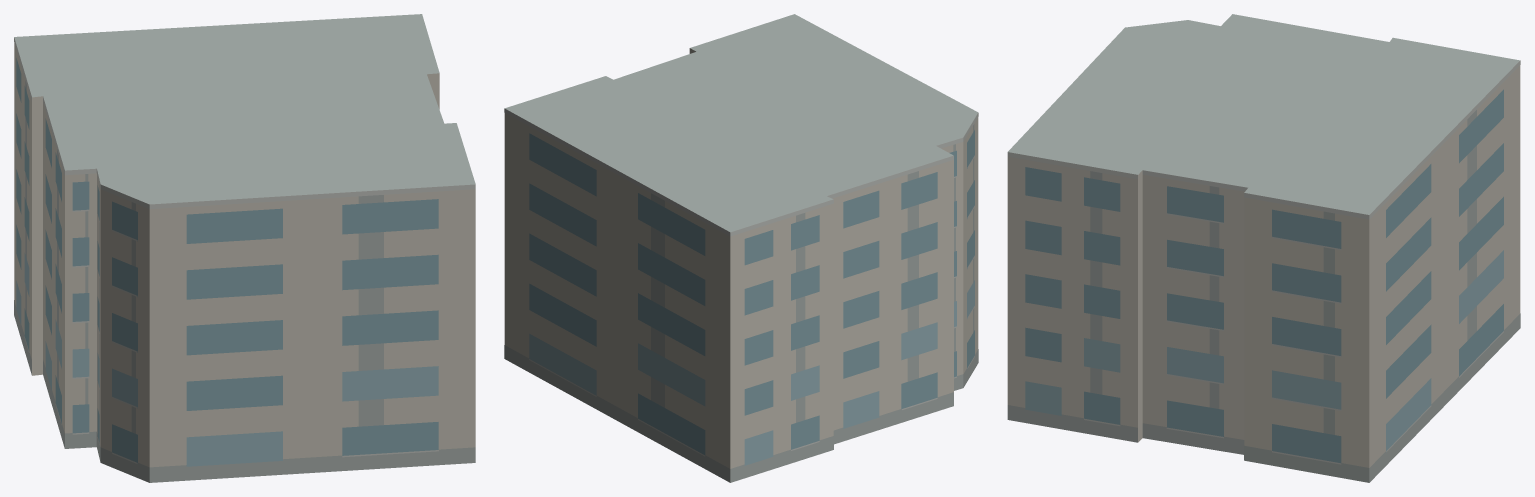
Rendered from survey-upis-32500748.glb.
3 views of the same model, side by side, from view 1: azimuth 30°, elevation 25°; view 2: azimuth 150°, elevation 25°; view 3: azimuth 270°, elevation 25° (orthographic). The views are drawn at different scales.
Visible parts, largest first — view 1: survey-upis-32500748.tmp; view 2: survey-upis-32500748.tmp; view 3: survey-upis-32500748.tmp.
Part boxes in pixels (left/top/right/bottom): survey-upis-32500748.tmp: left=14, top=14, right=475, bottom=482; survey-upis-32500748.tmp: left=504, top=14, right=978, bottom=482; survey-upis-32500748.tmp: left=1007, top=14, right=1520, bottom=482.
Size of the model in its own units: 23.09 by 14.34 by 24.89.
